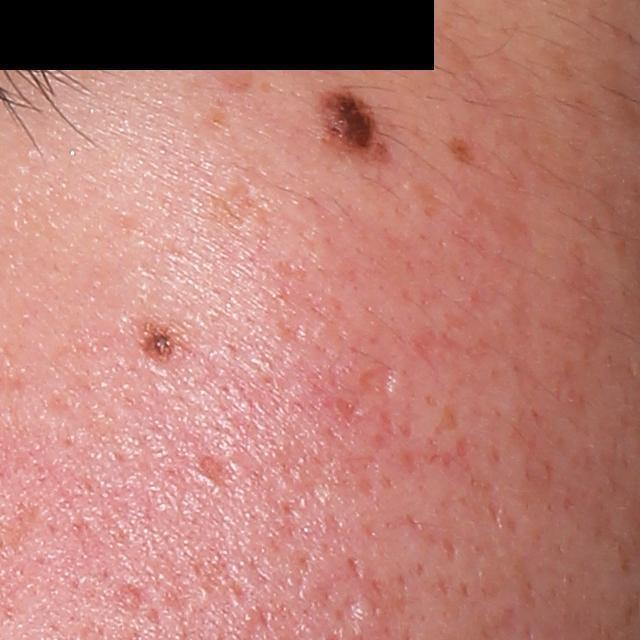atrophic_scar: (354, 361, 401, 400), (196, 454, 228, 490)
melasma: (202, 180, 261, 242), (442, 137, 482, 171)
nevus: (318, 89, 393, 164), (137, 317, 181, 366)
